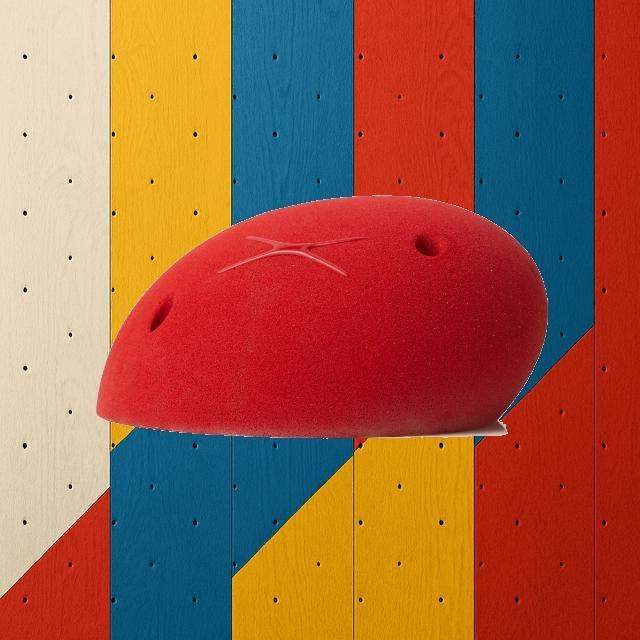Sloper: (97, 194, 548, 438)
